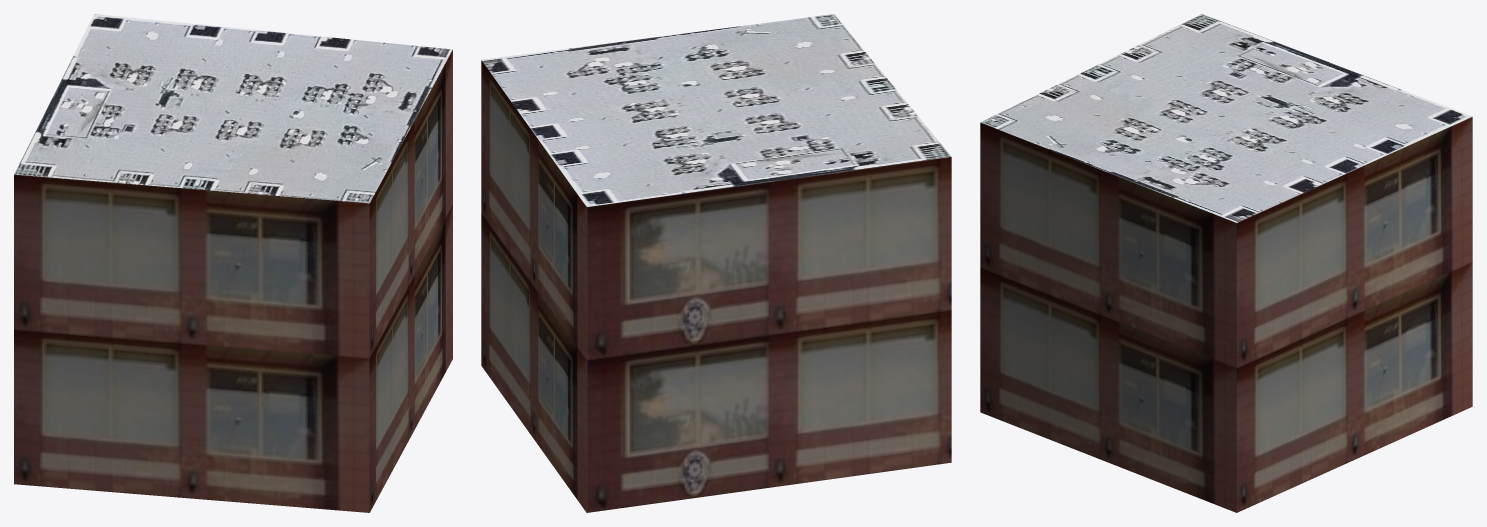
File: ResTex__513.fbx
3 views of the same model, side by side, from view 1: azimuth 30°, elevation 25°; view 2: azimuth 150°, elevation 25°; view 3: azimuth 270°, elevation 25° (orthographic). The views are drawn at different scales.
Parts seen in each view (by area): view 1: CityEngineMaterial_13_m, CityEngineMaterial_4_m; view 2: CityEngineMaterial_13_m, CityEngineMaterial_4_m; view 3: CityEngineMaterial_13_m, CityEngineMaterial_4_m.
Part boxes in pixels (x1,y1,x2,y2): CityEngineMaterial_13_m: [14, 50, 452, 512]; CityEngineMaterial_4_m: [14, 14, 452, 203]; CityEngineMaterial_13_m: [481, 60, 951, 512]; CityEngineMaterial_4_m: [481, 14, 951, 206]; CityEngineMaterial_13_m: [980, 117, 1472, 512]; CityEngineMaterial_4_m: [980, 14, 1472, 222].
Bounding box in the file's own units: 9.28 × 6 × 9.24.
2 materials, 2 textured.
